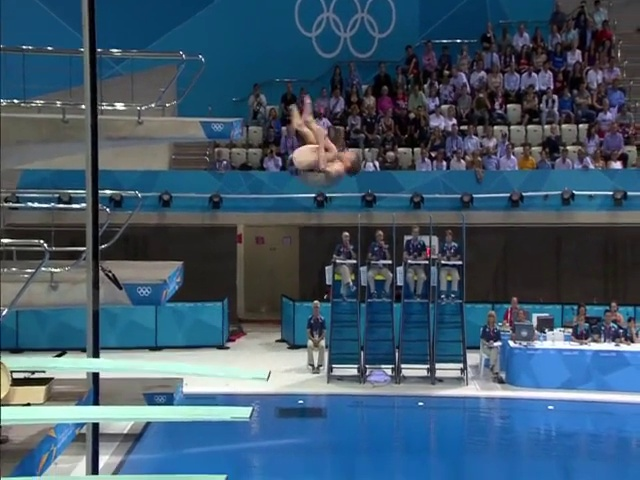diver: (289, 95, 363, 177)
